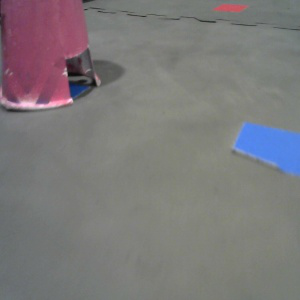middle: (1, 1, 102, 111)
